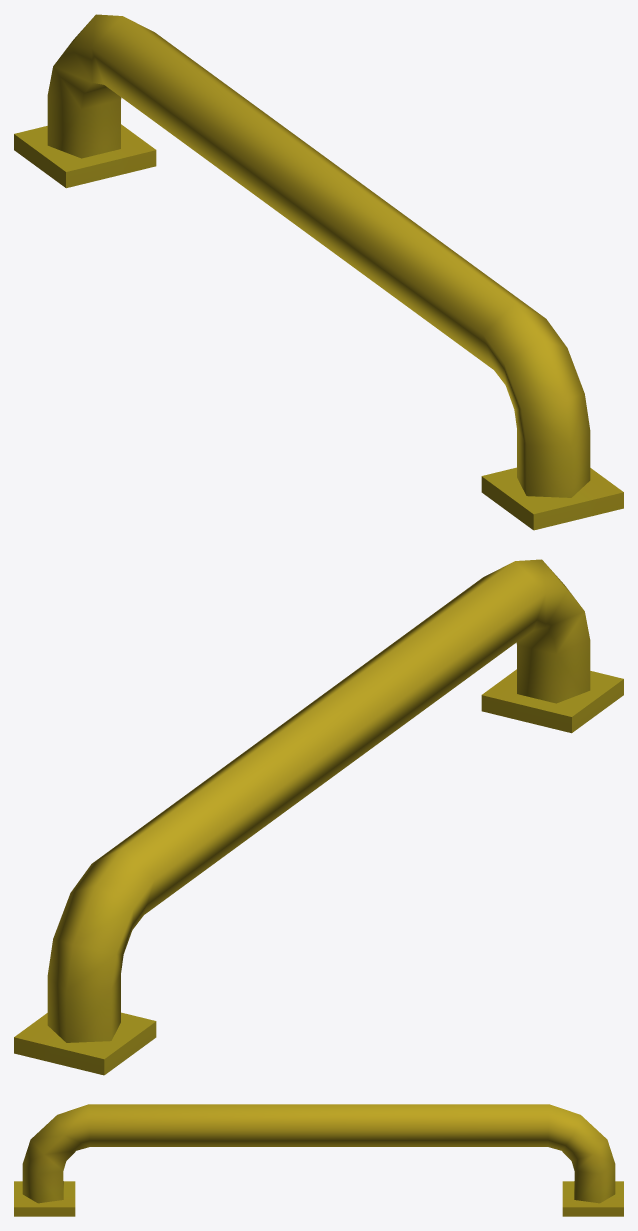
File: Bollards_2_A.fbx
The picture shows the model from 3 angles, top to bottom: view 1: azimuth 30°, elevation 25°; view 2: azimuth 150°, elevation 25°; view 3: azimuth 270°, elevation 25°; orthographic projection. The views are drawn at different scales.
Visible parts, largest first — view 1: Bollards_2_A; view 2: Bollards_2_A; view 3: Bollards_2_A.
Boxes of the visible parts, x1=… form: Bollards_2_A: x1=14, y1=14, x2=623, y2=530; Bollards_2_A: x1=14, y1=559, x2=623, y2=1075; Bollards_2_A: x1=14, y1=1104, x2=623, y2=1216.
Bounding box in the file's own units: 15.3 × 27.46 × 152.
